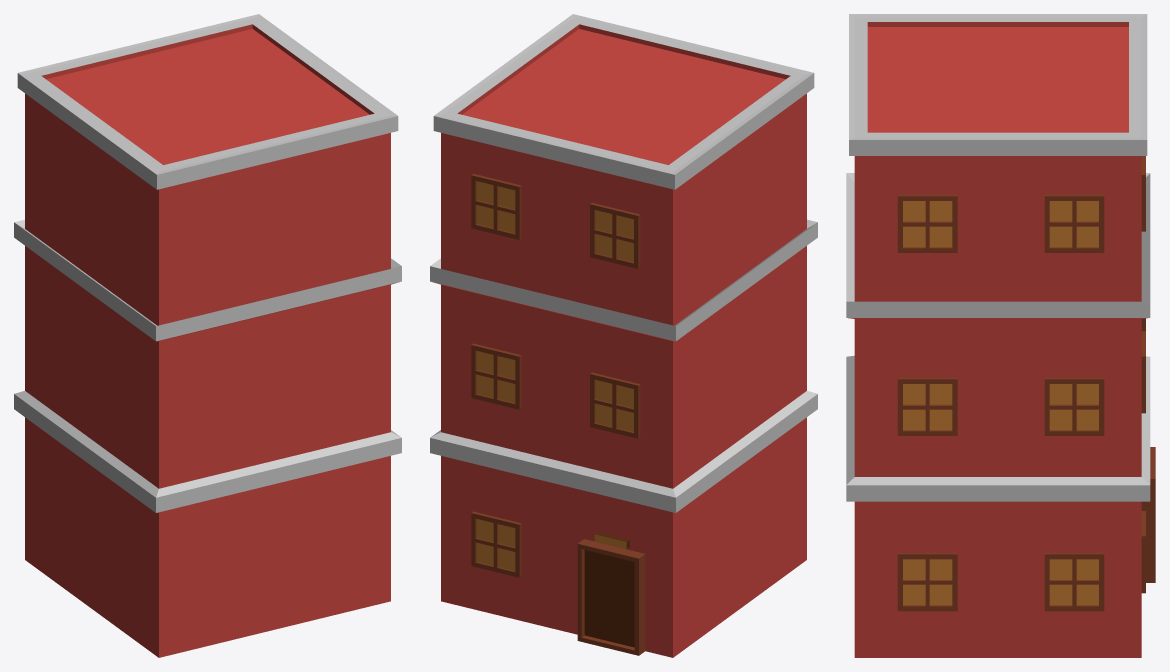
Rendered from palazzo.obj.
The picture shows the model from 3 angles, left to right: view 1: azimuth 30°, elevation 25°; view 2: azimuth 150°, elevation 25°; view 3: azimuth 270°, elevation 25°; orthographic projection. The views are drawn at different scales.
Parts seen in each view (by area): view 1: Cube; view 2: Cube, Cube.006, Cube.005, Cube.002, Cube.003, Cube.004, Cube.001; view 3: Cube, Cube.007, Cube.009, Cube.011, Cube.008, Cube.010, Cube.012, Cube.006.
Boxes of the visible parts, box(x1,y1,x2,y2) form: Cube: box(14, 14, 401, 657); Cube: box(430, 14, 817, 657); Cube.006: box(577, 539, 645, 655); Cube.005: box(471, 511, 521, 577); Cube.002: box(590, 202, 640, 268); Cube.003: box(471, 343, 521, 409); Cube.004: box(590, 372, 640, 438); Cube.001: box(471, 173, 521, 239); Cube: box(846, 14, 1150, 657); Cube.007: box(897, 194, 957, 252); Cube.009: box(897, 377, 957, 435); Cube.011: box(897, 553, 957, 611); Cube.008: box(1044, 194, 1104, 252); Cube.010: box(1044, 377, 1104, 435); Cube.012: box(1044, 553, 1104, 611); Cube.006: box(1141, 447, 1155, 582).
Size of the model in its own units: 2.12 by 4 by 2.16.
